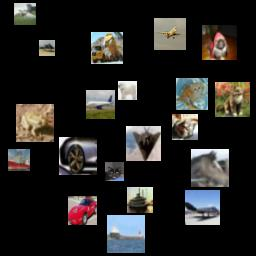airplane: (185, 190, 220, 225), (126, 126, 161, 161), (154, 18, 186, 50), (86, 90, 115, 119), (39, 40, 55, 56)
automobile: (59, 137, 97, 175), (68, 196, 97, 225)
cat: (215, 82, 250, 117), (176, 78, 208, 110), (172, 114, 198, 140), (105, 162, 124, 181)
dog: (202, 25, 237, 60), (14, 3, 36, 25), (118, 81, 137, 100)
frog: (16, 104, 54, 142)
ship: (107, 215, 145, 253), (127, 187, 153, 213), (8, 149, 30, 171)
truck: (91, 32, 123, 64)
